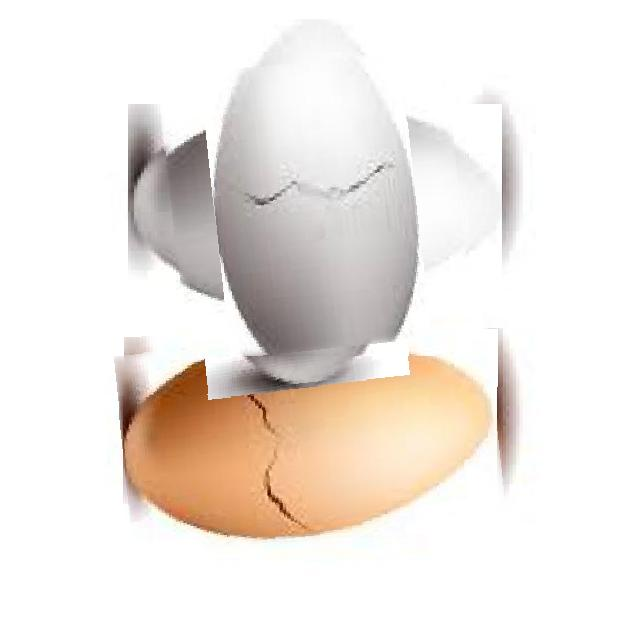biodegradable: (165, 54, 466, 356), (119, 328, 503, 550)
